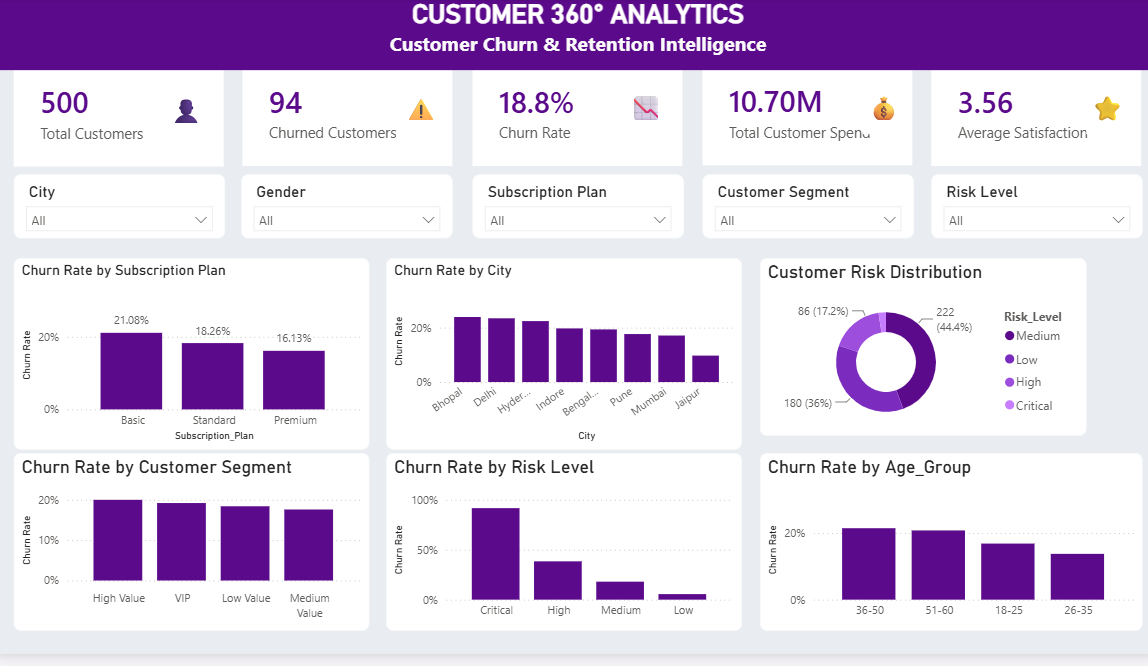

What the dashboard file says about the page in this screenshot:
{"tool":"powerbi","page":{"name":"Customer 360° Overview","canvas":[1280,720],"ordinal":0},"visuals":[{"type":"cardVisual","fields":{"Data":["Customer_360_Final.Total Customers"]},"box":[20.5,66.4,230,119.4],"z":0},{"type":"cardVisual","fields":{"Data":["Customer_360_Final.Churned Customers"]},"box":[272,64.5,230,120],"z":1000},{"type":"cardVisual","fields":{"Data":["Customer_360_Final.Churn Rate"]},"box":[524,64.5,230,120],"z":2000},{"type":"cardVisual","fields":{"Data":["Customer_360_Final.Total Customer Spend"]},"box":[776,63.9,230,119.4],"z":3000},{"type":"cardVisual","fields":{"Data":["Customer_360_Final.Average Satisfaction"]},"box":[1028,64.5,230,120],"z":4000},{"type":"clusteredColumnChart","title":"Churn Rate by Subscription Plan","fields":{"Y":["Customer_360_Final.Churn Rate"],"Category":["Customer_360_Final.Subscription_Plan"]},"box":[20,285,390,210],"z":5000},{"type":"clusteredColumnChart","fields":{"Category":["Customer_360_Final.City"],"Y":["Customer_360_Final.Churn Rate"]},"box":[430,285,390,210],"z":6000},{"type":"clusteredColumnChart","title":"Churn Rate by Age Group","fields":{"Category":["Customer_360_Final.Age_Group"],"Y":["Customer_360_Final.Churn Rate"]},"box":[840,500,420,195],"z":7000},{"type":"clusteredColumnChart","title":"Churn Rate by Customer Segment","fields":{"Category":["Customer_360_Final.Customer_Segment"],"Y":["Customer_360_Final.Churn Rate"]},"box":[20,500,390,195],"z":8000},{"type":"clusteredColumnChart","title":"Churn Rate by Risk Level","fields":{"Category":["Customer_360_Final.Risk_Level"],"Y":["Customer_360_Final.Churn Rate"]},"box":[430,500,390,195],"z":9000},{"type":"donutChart","title":"Customer Risk Distribution","fields":{"Category":["Customer_360_Final.Risk_Level"],"Y":["CountNonNull(Customer_360_Final.Customer_ID)"]},"box":[840,285,358,195],"z":10000},{"type":"slicer","title":"City","fields":{"Values":["Customer_360_Final.City"]},"box":[20,193.5,232,70],"z":11000},{"type":"slicer","fields":{"Values":["Customer_360_Final.Gender"]},"box":[270.2,193,232,70],"z":12000},{"type":"slicer","fields":{"Values":["Customer_360_Final.Subscription_Plan"]},"box":[524,193.5,232,70],"z":13000},{"type":"slicer","fields":{"Values":["Customer_360_Final.Customer_Segment"]},"box":[776,193.5,232,70],"z":14000},{"type":"shape","title":"CUSTOMER 360° ANALYTICS","box":[0,0,1280.3,79.6],"z":15000},{"type":"slicer","fields":{"Values":["Customer_360_Final.Risk_Level"]},"box":[1028,193.5,232,70],"z":16000},{"type":"textbox","box":[1198,97.7,47.1,51.9],"z":17000},{"type":"textbox","box":[963.3,97.4,43.9,52.1],"z":18000},{"type":"textbox","box":[691.3,97.7,45.8,51.9],"z":19000},{"type":"textbox","box":[444,97.7,43.4,51.9],"z":20000},{"type":"textbox","box":[187,100.1,51.9,49.5],"z":21000}]}

Visuals, with their boxes on the page's 1280x720 design canvas (x1, y1, x2, y2). These are canvas units, not pixel positions in the 1148x666 screenshot, which may show the page scaled, cropped or inside an application window:
cardVisual - Customer_360_Final.Total Customers: (left=20, top=66, right=250, bottom=186)
cardVisual - Customer_360_Final.Churned Customers: (left=272, top=64, right=502, bottom=184)
cardVisual - Customer_360_Final.Churn Rate: (left=524, top=64, right=754, bottom=184)
cardVisual - Customer_360_Final.Total Customer Spend: (left=776, top=64, right=1006, bottom=183)
cardVisual - Customer_360_Final.Average Satisfaction: (left=1028, top=64, right=1258, bottom=184)
"Churn Rate by Subscription Plan" clusteredColumnChart: (left=20, top=285, right=410, bottom=495)
clusteredColumnChart - Customer_360_Final.City x Customer_360_Final.Churn Rate: (left=430, top=285, right=820, bottom=495)
"Churn Rate by Age Group" clusteredColumnChart: (left=840, top=500, right=1260, bottom=695)
"Churn Rate by Customer Segment" clusteredColumnChart: (left=20, top=500, right=410, bottom=695)
"Churn Rate by Risk Level" clusteredColumnChart: (left=430, top=500, right=820, bottom=695)
"Customer Risk Distribution" donutChart: (left=840, top=285, right=1198, bottom=480)
"City" slicer: (left=20, top=194, right=252, bottom=264)
slicer - Customer_360_Final.Gender: (left=270, top=193, right=502, bottom=263)
slicer - Customer_360_Final.Subscription_Plan: (left=524, top=194, right=756, bottom=264)
slicer - Customer_360_Final.Customer_Segment: (left=776, top=194, right=1008, bottom=264)
"CUSTOMER 360° ANALYTICS" shape: (left=0, top=0, right=1280, bottom=80)
slicer - Customer_360_Final.Risk_Level: (left=1028, top=194, right=1260, bottom=264)
textbox: (left=1198, top=98, right=1245, bottom=150)
textbox: (left=963, top=97, right=1007, bottom=150)
textbox: (left=691, top=98, right=737, bottom=150)
textbox: (left=444, top=98, right=487, bottom=150)
textbox: (left=187, top=100, right=239, bottom=150)
